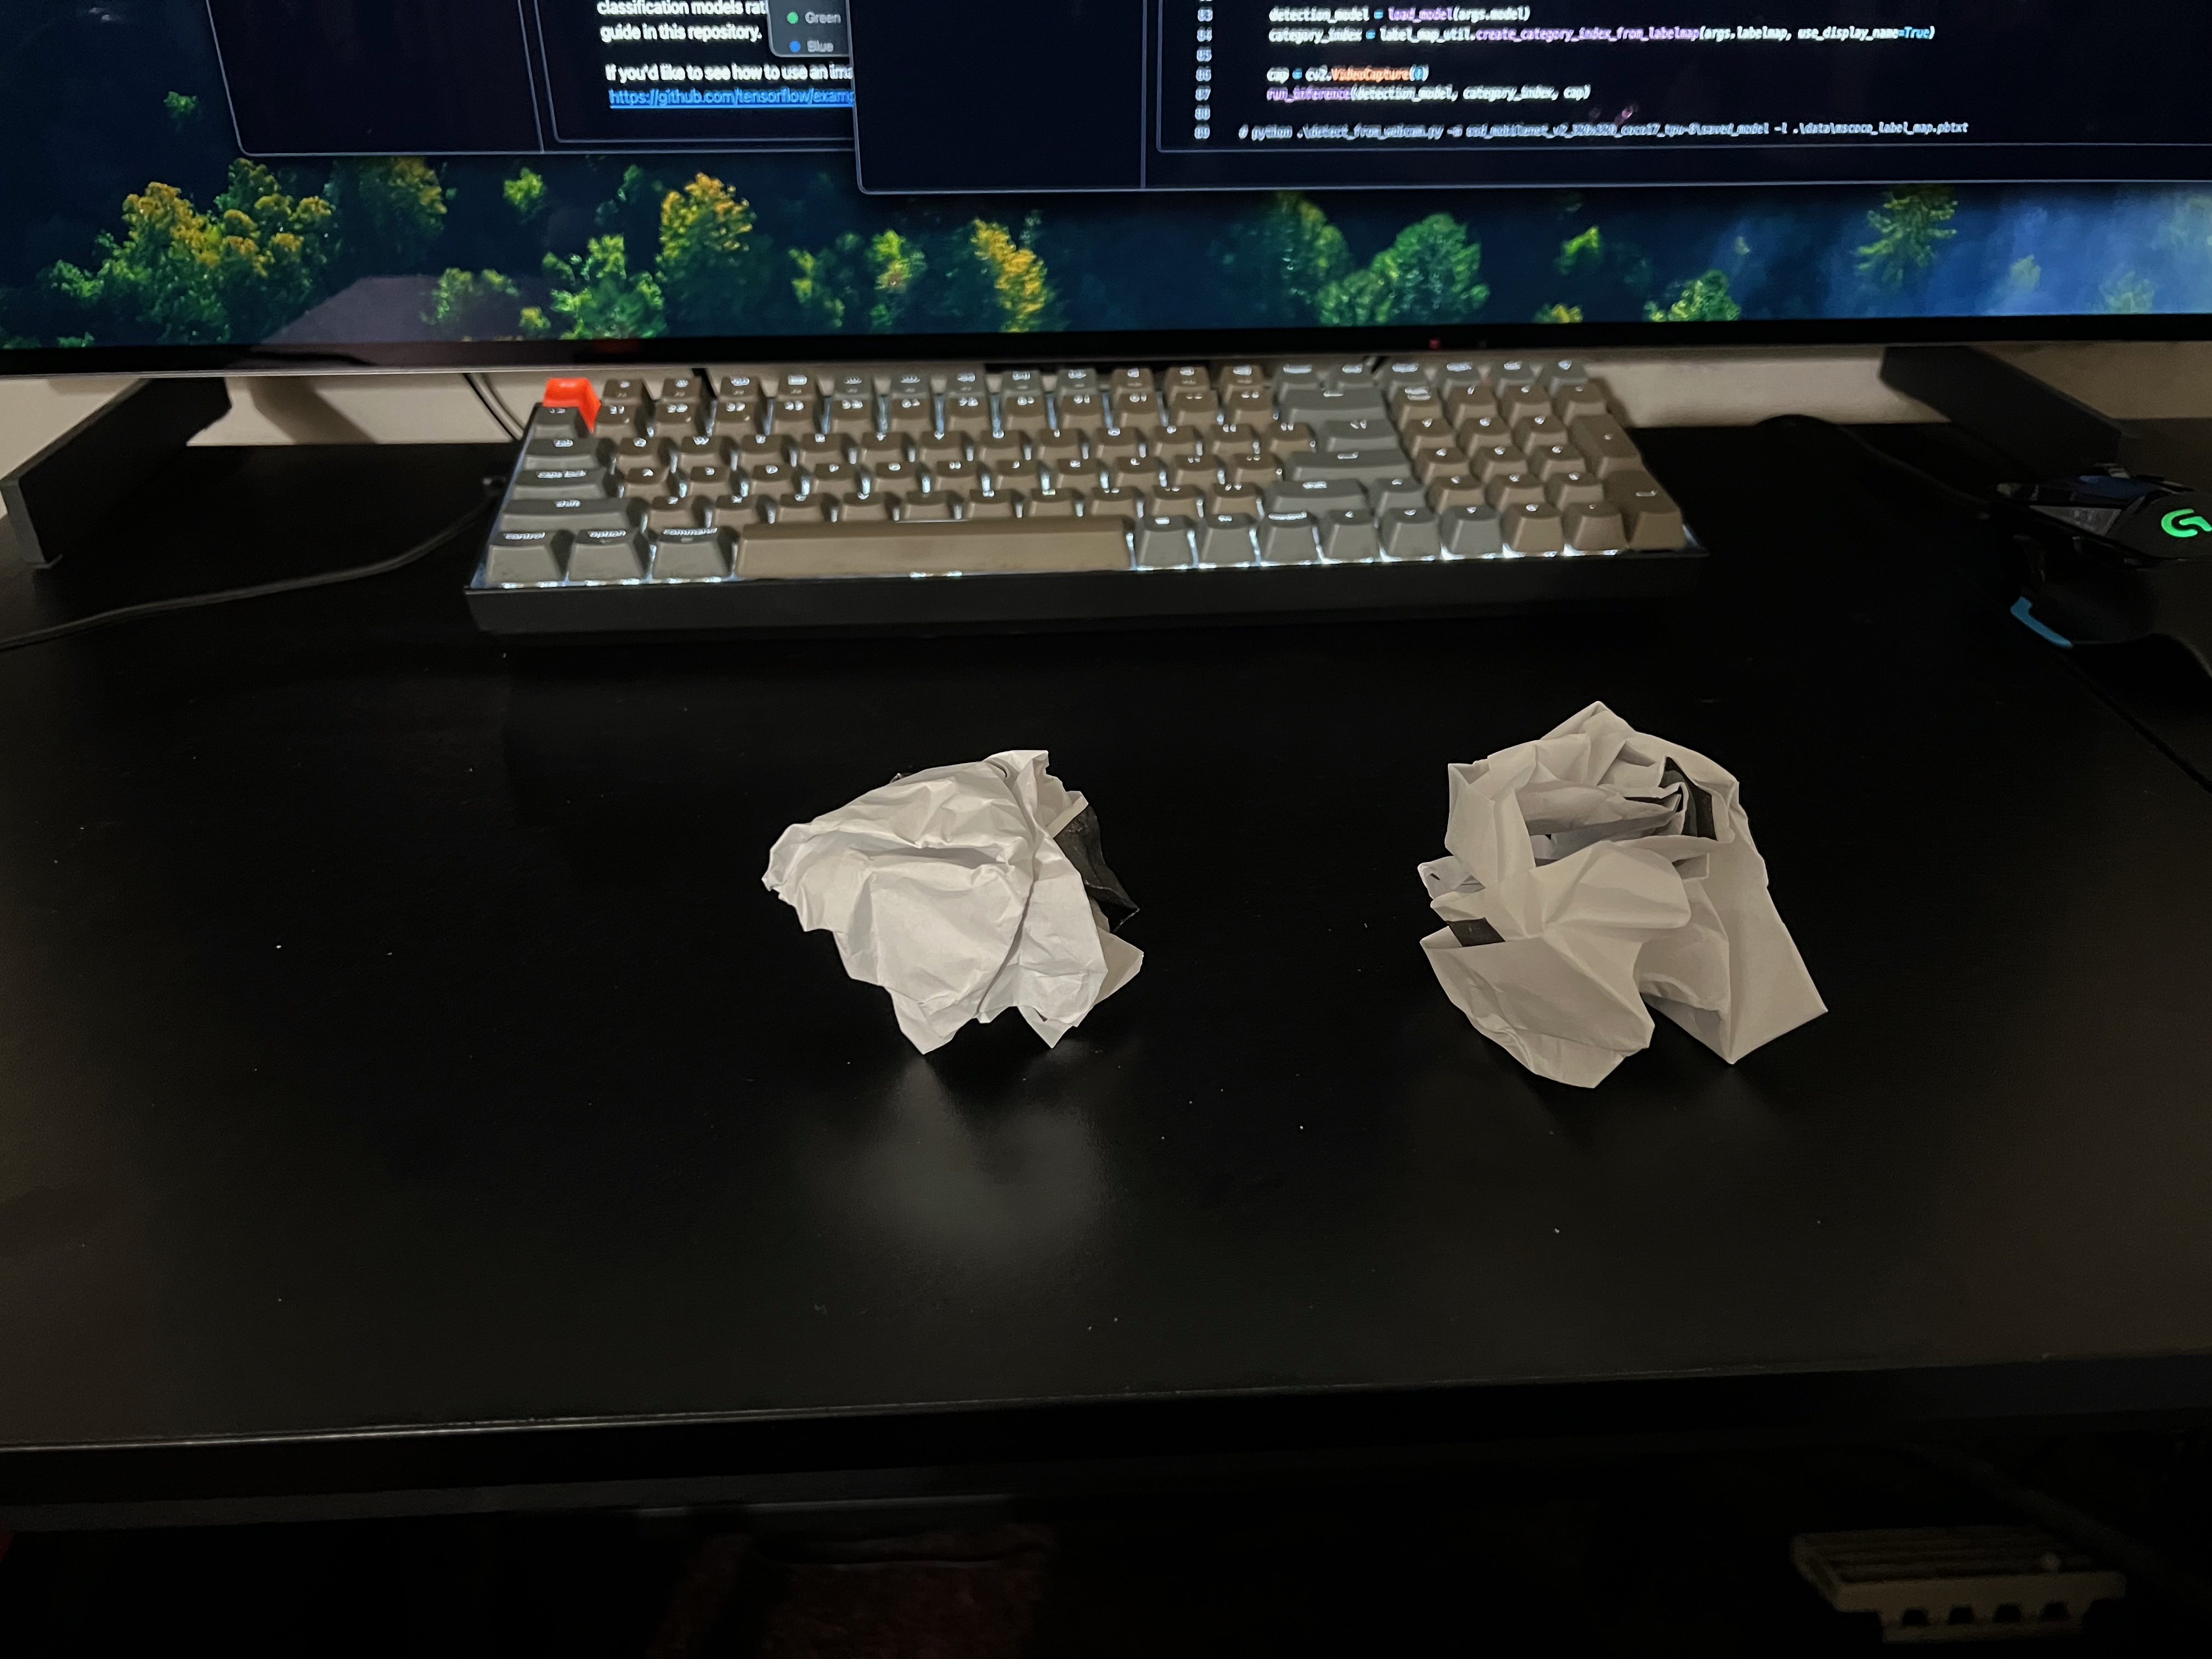trash paper: (1392, 683, 1855, 1124), (726, 735, 1184, 1072)
